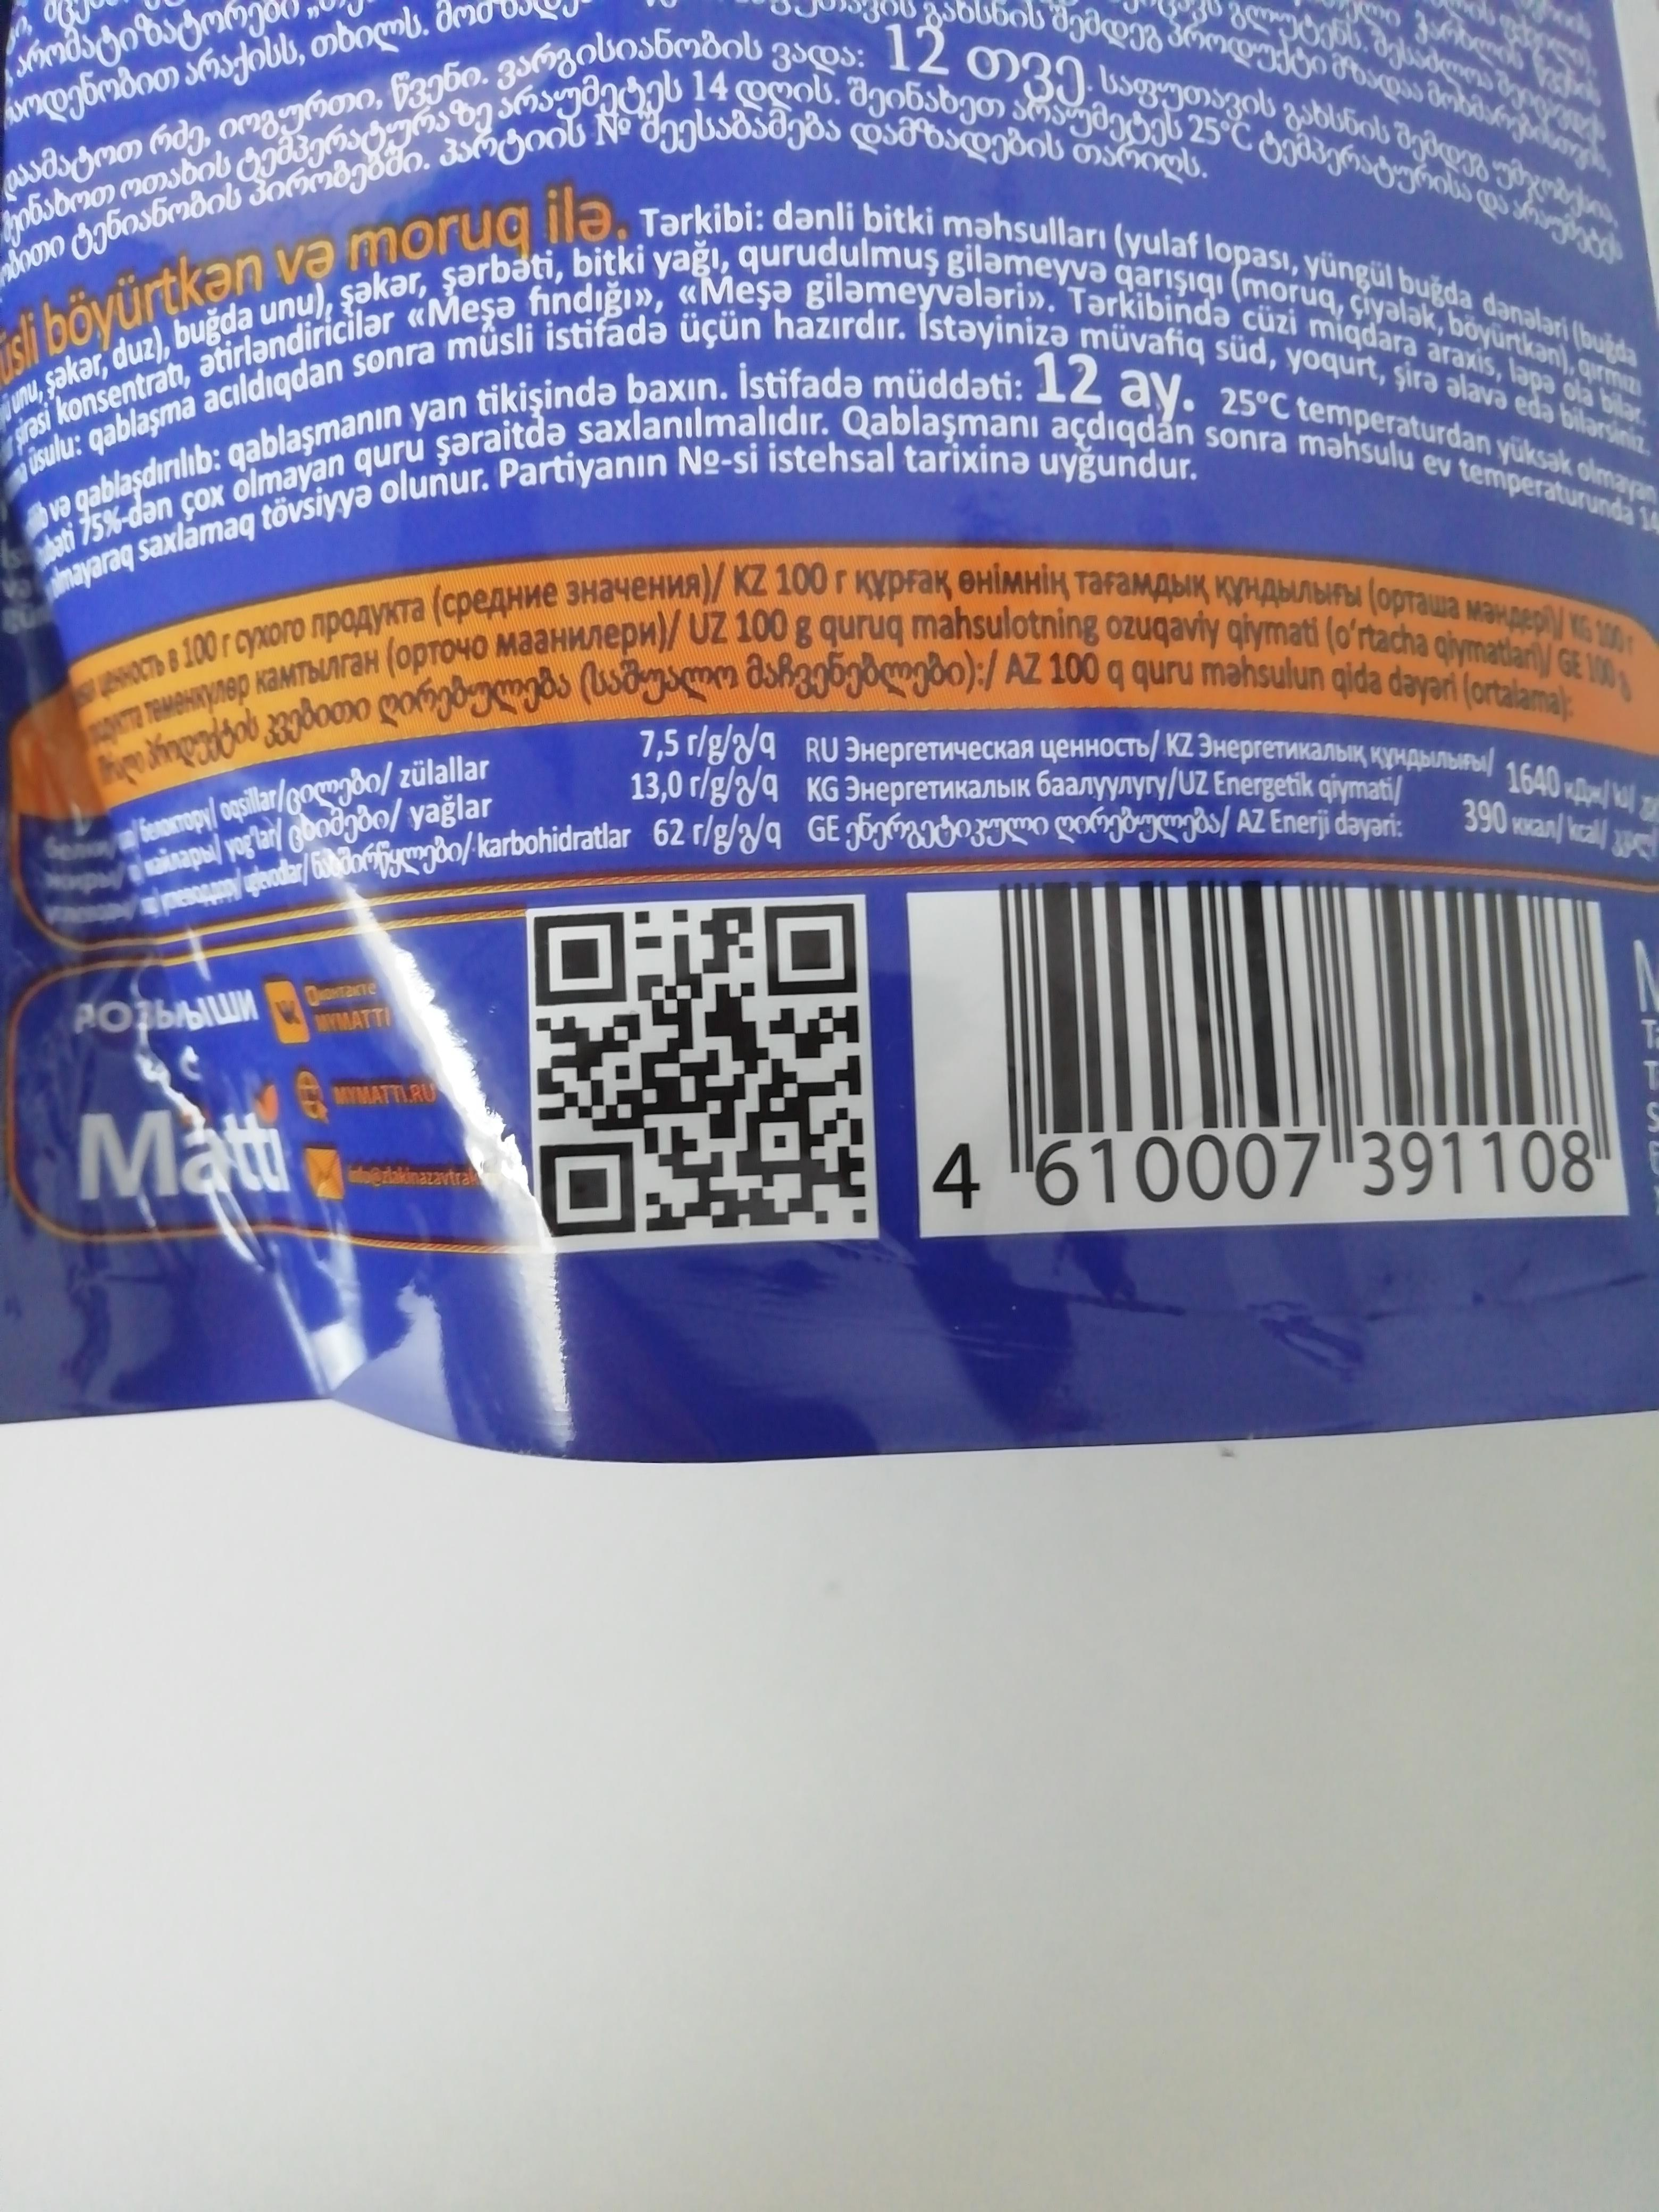qrcode: (532, 902, 875, 1237)
